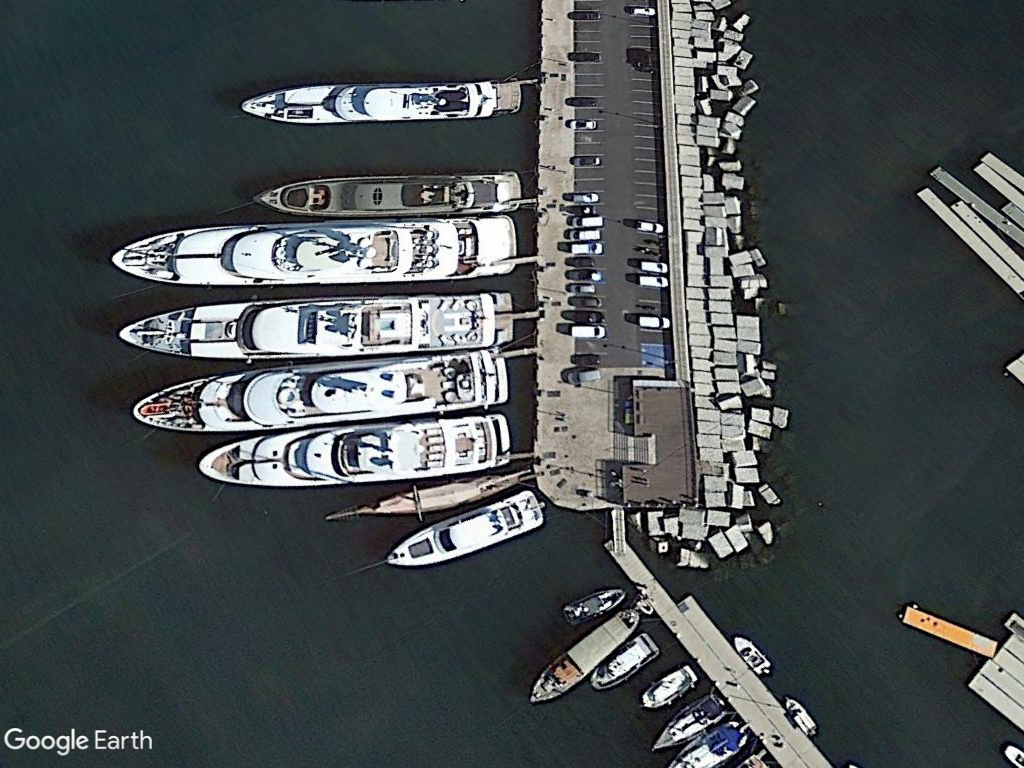boat: (125, 348, 522, 434), (104, 214, 520, 290), (114, 288, 517, 360), (190, 410, 528, 488), (235, 69, 529, 128), (378, 485, 538, 584), (253, 168, 522, 217)
